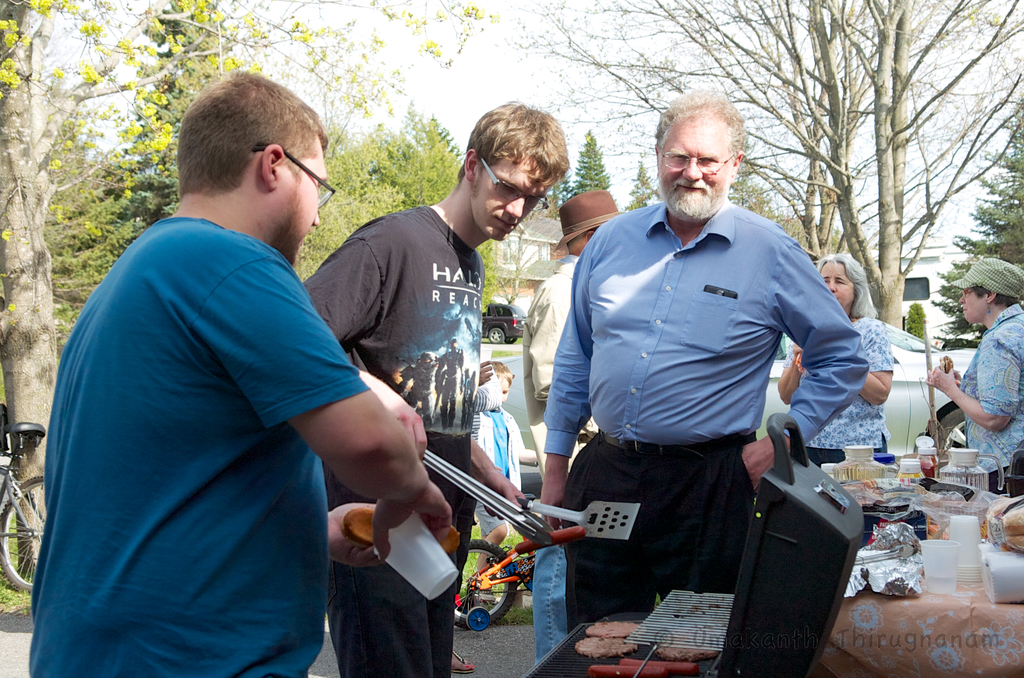Human_hand: (367, 474, 458, 565), (370, 389, 428, 460), (740, 433, 790, 495), (330, 501, 375, 567), (484, 469, 527, 521), (535, 476, 563, 533), (925, 366, 954, 389), (940, 358, 959, 379), (477, 362, 493, 384), (788, 341, 804, 360)
